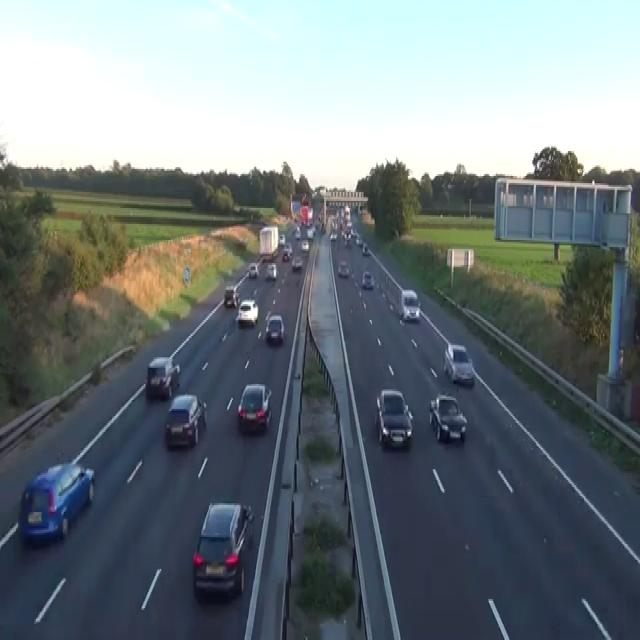Car: (280, 494, 367, 638), (19, 460, 95, 546), (192, 501, 254, 599), (164, 393, 207, 448), (375, 388, 413, 448), (428, 393, 467, 443), (237, 382, 272, 432), (146, 356, 180, 398), (443, 343, 475, 386), (400, 290, 420, 320), (236, 299, 258, 325), (265, 313, 284, 343), (224, 284, 239, 308), (361, 270, 374, 288), (337, 260, 349, 278), (265, 263, 277, 279), (248, 262, 259, 278), (291, 254, 302, 270), (283, 242, 292, 260), (306, 228, 315, 238), (301, 240, 309, 251), (329, 231, 337, 242), (362, 242, 369, 254), (278, 233, 285, 245), (282, 249, 289, 261), (301, 194, 308, 206), (355, 235, 362, 245), (294, 228, 300, 238), (344, 235, 350, 245), (351, 230, 358, 238)
Truck: (259, 226, 278, 260), (300, 204, 313, 226)
